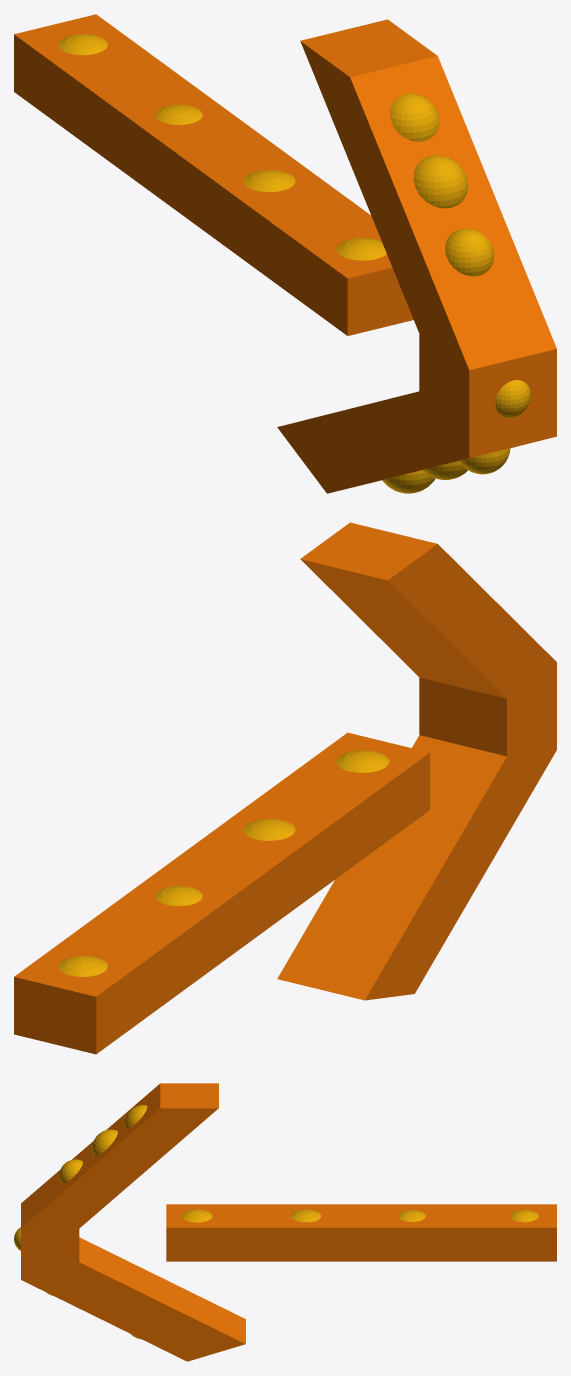
File: sign.fbx
3 renders of one model, top to bottom at view 1: azimuth 30°, elevation 25°; view 2: azimuth 150°, elevation 25°; view 3: azimuth 270°, elevation 25°, orthographic. The views are drawn at different scales.
Visible parts, largest first — view 1: Cube.001, Cube, Sphere.004, Sphere.008, Sphere.005, Sphere.010, Sphere, Sphere.001, Sphere.003, Sphere.006, Sphere.009, Sphere.002; view 2: Cube.001, Cube, Sphere, Sphere.001, Sphere.003, Sphere.002; view 3: Cube.001, Cube, Sphere.004, Sphere.005.
Part boxes in pixels (x1,y1,x2,y2): Cube.001: (277,19,556,493); Cube: (14,14,413,335); Sphere.004: (413,155,467,208); Sphere.008: (390,93,439,141); Sphere.005: (445,228,493,276); Sphere.010: (495,380,530,417); Sphere: (336,238,386,260); Sphere.001: (243,170,295,192); Sphere.003: (58,34,107,55); Sphere.006: (459,448,510,474); Sphere.009: (382,470,435,493); Sphere.002: (155,105,202,124); Cube.001: (277,522,556,1000); Cube: (14,732,429,1054); Sphere: (336,750,389,772); Sphere.001: (243,819,295,840); Sphere.003: (58,956,107,976); Sphere.002: (155,886,202,906); Cube.001: (21,1083,245,1361); Cube: (166,1204,556,1261); Sphere.004: (92,1129,117,1155); Sphere.005: (59,1159,82,1183).
Size of the model in its own units: 143 by 673 by 1307.
